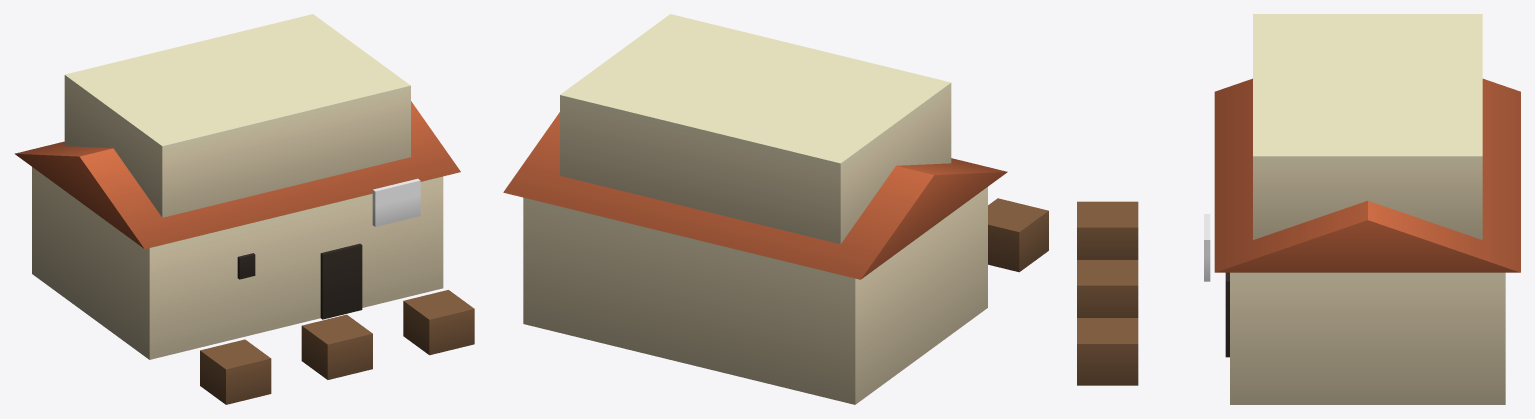
File: INN_ME.glb
3 renders of one model, left to right at view 1: azimuth 30°, elevation 25°; view 2: azimuth 150°, elevation 25°; view 3: azimuth 270°, elevation 25°, orthographic. The views are drawn at different scales.
Parts seen in each view (by area): view 1: Body; view 2: Body; view 3: Body.
Part boxes in pixels (box(x1,y1,x2,y2)): Body: box(14, 14, 474, 404); Body: box(503, 14, 1048, 404); Body: box(1077, 14, 1520, 404).
Size of the model in its own units: 2.8 by 1.7 by 2.9.
1 material, 1 textured.
